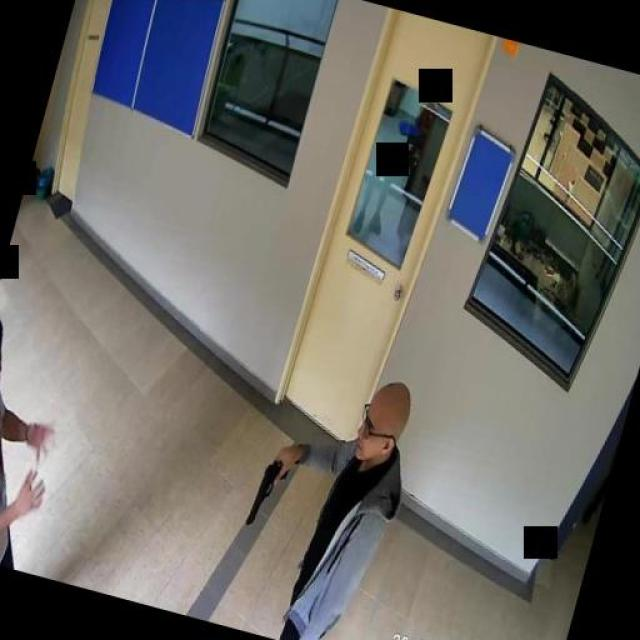gun: (244, 450, 290, 530)
